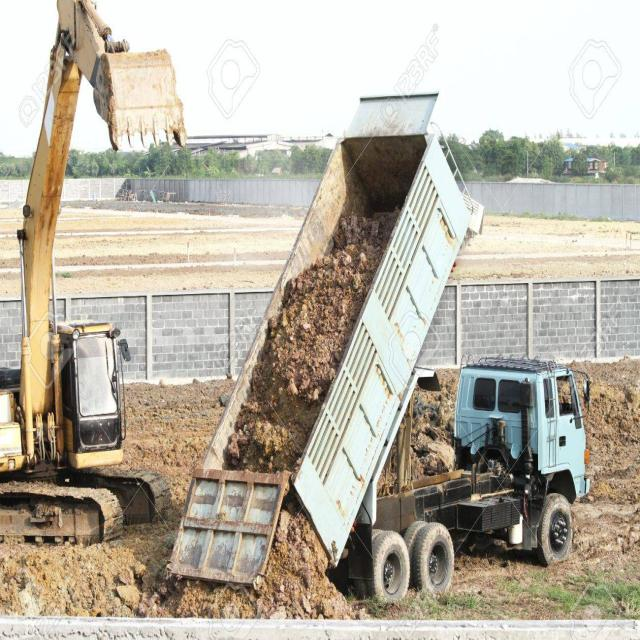machinery: (183, 89, 599, 614), (0, 0, 188, 545)
